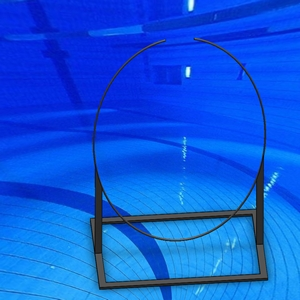circle: (88, 36, 269, 291)
